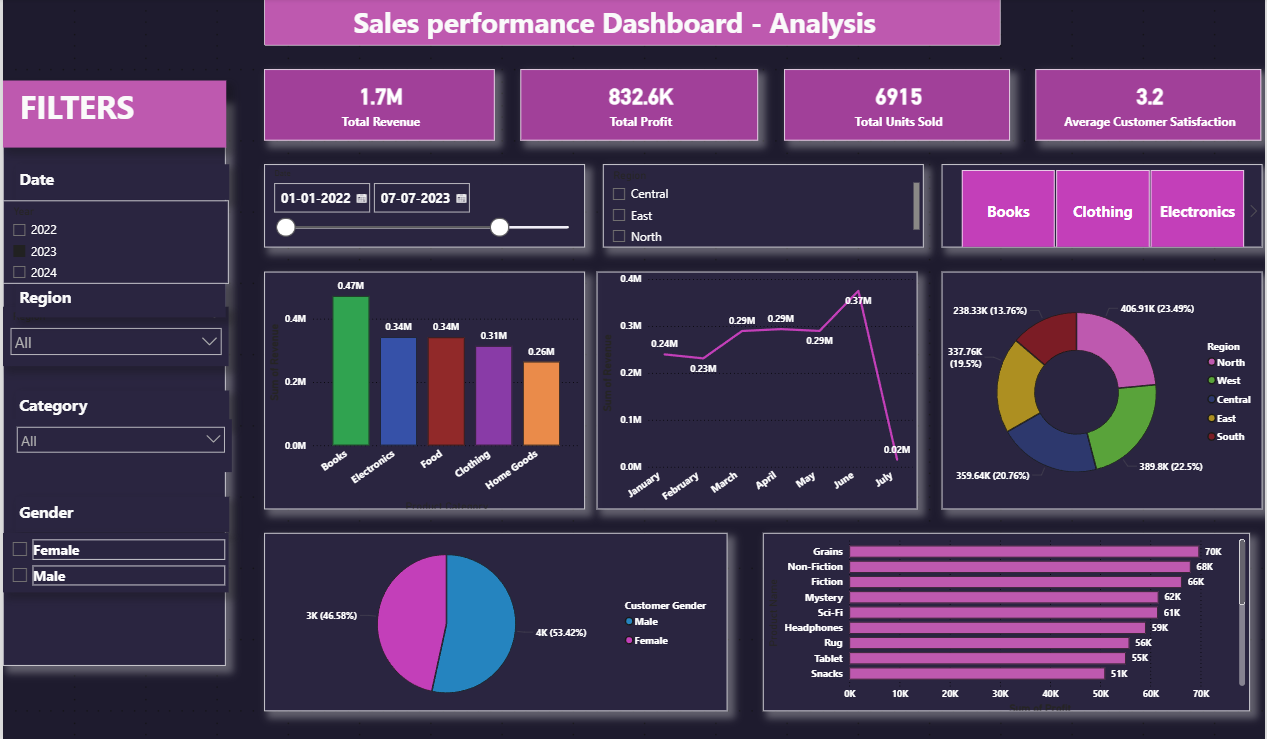

The dashboard page shown, as its layout file describes it:
{"tool":"powerbi","page":{"name":"Mine project","canvas":[1700,1000],"ordinal":0},"visuals":[{"type":"lineChart","title":"Sales Trend(Last 12 Months)","fields":{"Y":["Sum(sales_data.Revenue)"],"Category":["sales_data.Date.Variation.Date Hierarchy.Month"]},"box":[800,368,432,320],"z":0},{"type":"donutChart","title":" Region-wise Sales","fields":{"Category":["sales_data.Region"],"Y":["Sum(sales_data.Revenue)"]},"box":[1264,368,432,320],"z":1000},{"type":"clusteredBarChart","title":"Profit by Product","fields":{"Category":["sales_data.Product Name"],"Y":["Sum(sales_data.Profit)"]},"box":[1024,720,656,240],"z":2000},{"type":"pieChart","fields":{"Category":["sales_data.Customer Gender"],"Y":["Sum(sales_data.Units Sold)"]},"box":[352,720,624,240],"z":3000},{"type":"slicer","fields":{"Values":["sales_data.Date"]},"box":[352,224,432,112],"z":4000},{"type":"slicer","fields":{"Values":["sales_data.Region"]},"box":[808,224,432,112],"z":5000},{"type":"slicer","fields":{"Values":["sales_data.Product Category"]},"box":[1264,224,432,112],"z":6000},{"type":"card","fields":{"Values":["Sum(sales_data.Revenue)"]},"box":[352,96,310,96],"z":7000},{"type":"card","fields":{"Values":["Sum(sales_data.Profit)"]},"box":[697.3,96,320,96],"z":8000},{"type":"card","fields":{"Values":["Sum(sales_data.Units Sold)"]},"box":[1052.7,96,304,96],"z":9000},{"type":"card","fields":{"Values":["Avg(sales_data.Customer Satisfaction)"]},"box":[1392,96,304,96],"z":10000},{"type":"shape","box":[0,138.7,300.1,761.6],"z":11000},{"type":"textbox","box":[0,111.7,300.9,90.1],"z":12000},{"type":"slicer","fields":{"Values":["sales_data.Region"]},"box":[0,415.2,304,80],"z":13000},{"type":"textbox","box":[16,224,288,48],"z":14000},{"type":"textbox","box":[16.6,383,283.5,48.3],"z":15000},{"type":"textbox","box":[16,528,288,48],"z":16000},{"type":"slicer","fields":{"Values":["sales_data.Product Category"]},"box":[9,568.1,300.1,70.9],"z":17000},{"type":"textbox","box":[16,672,288,48],"z":18000},{"type":"slicer","fields":{"Values":["sales_data.Customer Gender"]},"box":[0,720,304,80],"z":19000},{"type":"clusteredColumnChart","title":"Sales by Category","fields":{"Y":["Sum(sales_data.Revenue)"],"Category":["sales_data.Product Category"]},"box":[352,368,432,320],"z":20000},{"type":"slicer","fields":{"Values":["sales_data.Date.Variation.Date Hierarchy.Year"]},"box":[0,272,304,112],"z":21000},{"type":"textbox","box":[352,0,992,64],"z":22000}]}

Visuals, with their boxes in screenshot pixels (x1, y1, x2, y2), scaled from the page's 1700x1000 canvas onto the 1267x739 screenshot:
"Sales Trend(Last 12 Months)" lineChart: Rect(596, 272, 918, 508)
" Region-wise Sales" donutChart: Rect(942, 272, 1264, 508)
"Profit by Product" clusteredBarChart: Rect(763, 532, 1252, 709)
pieChart - sales_data.Customer Gender x Sum(sales_data.Units Sold): Rect(262, 532, 727, 709)
slicer - sales_data.Date: Rect(262, 166, 584, 248)
slicer - sales_data.Region: Rect(602, 166, 924, 248)
slicer - sales_data.Product Category: Rect(942, 166, 1264, 248)
card - Sum(sales_data.Revenue): Rect(262, 71, 493, 142)
card - Sum(sales_data.Profit): Rect(520, 71, 758, 142)
card - Sum(sales_data.Units Sold): Rect(785, 71, 1011, 142)
card - Avg(sales_data.Customer Satisfaction): Rect(1037, 71, 1264, 142)
shape: Rect(0, 102, 224, 665)
textbox: Rect(0, 83, 224, 149)
slicer - sales_data.Region: Rect(0, 307, 227, 366)
textbox: Rect(12, 166, 227, 201)
textbox: Rect(12, 283, 224, 319)
textbox: Rect(12, 390, 227, 426)
slicer - sales_data.Product Category: Rect(7, 420, 230, 472)
textbox: Rect(12, 497, 227, 532)
slicer - sales_data.Customer Gender: Rect(0, 532, 227, 591)
"Sales by Category" clusteredColumnChart: Rect(262, 272, 584, 508)
slicer - sales_data.Date.Variation.Date Hierarchy.Year: Rect(0, 201, 227, 284)
textbox: Rect(262, 0, 1002, 47)
